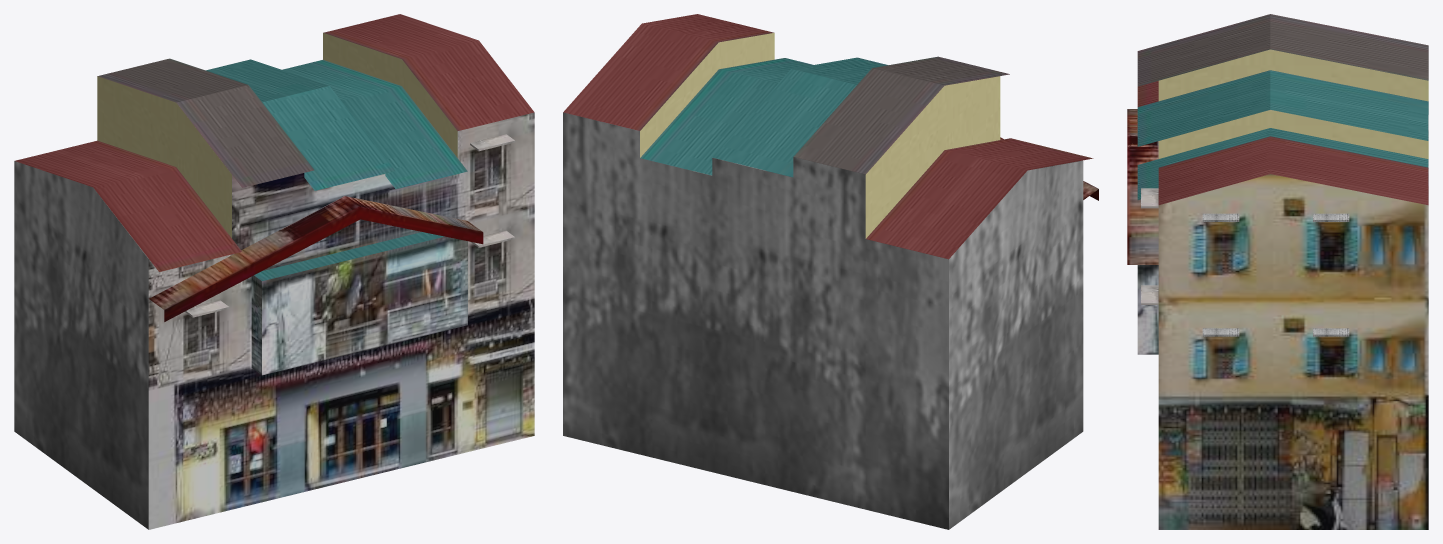
The picture shows the model from 3 angles, left to right: view 1: azimuth 30°, elevation 25°; view 2: azimuth 150°, elevation 25°; view 3: azimuth 270°, elevation 25°; orthographic projection.
Visible parts, largest first — view 1: HN915___Bistro___Food___Drink___DJ_1900; view 2: HN915___Bistro___Food___Drink___DJ_1900; view 3: HN915___Bistro___Food___Drink___DJ_1900.
Part boxes in pixels (bbox=[...]): HN915___Bistro___Food___Drink___DJ_1900: bbox=[14, 14, 534, 529]; HN915___Bistro___Food___Drink___DJ_1900: bbox=[563, 14, 1098, 529]; HN915___Bistro___Food___Drink___DJ_1900: bbox=[1127, 14, 1428, 529].
Size of the model in its own units: 15.5 by 13.61 by 10.1.
Materials: 1 (1 with a texture image).
